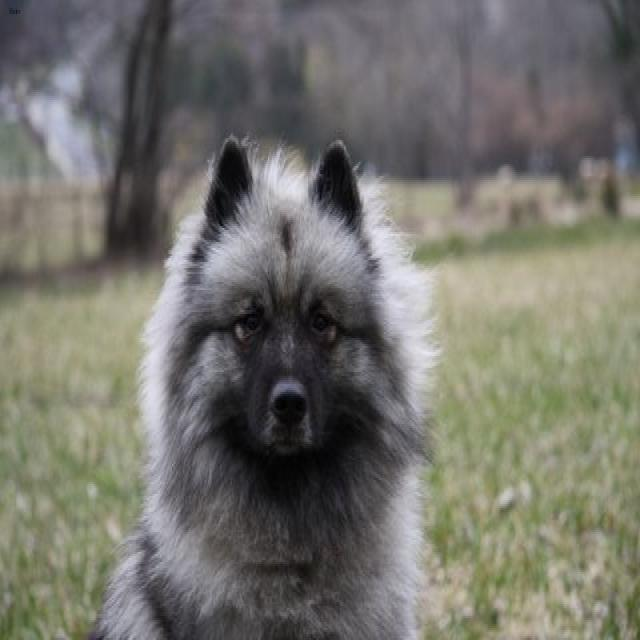dog-keeshond: (81, 128, 445, 636)
